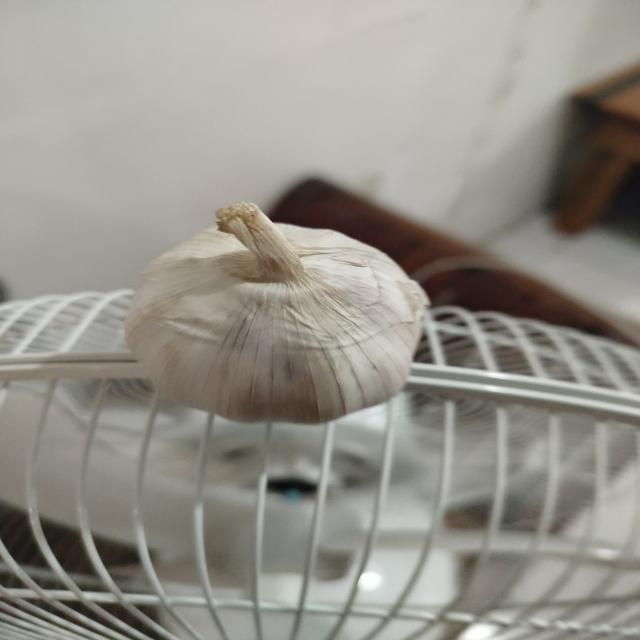garlic: (123, 201, 432, 424)
